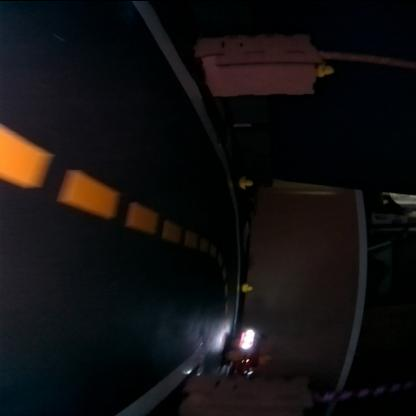Duckie: (318, 62, 335, 76), (240, 176, 254, 188), (259, 352, 272, 363), (243, 283, 254, 290)
Duckiebot: (226, 332, 260, 375)
